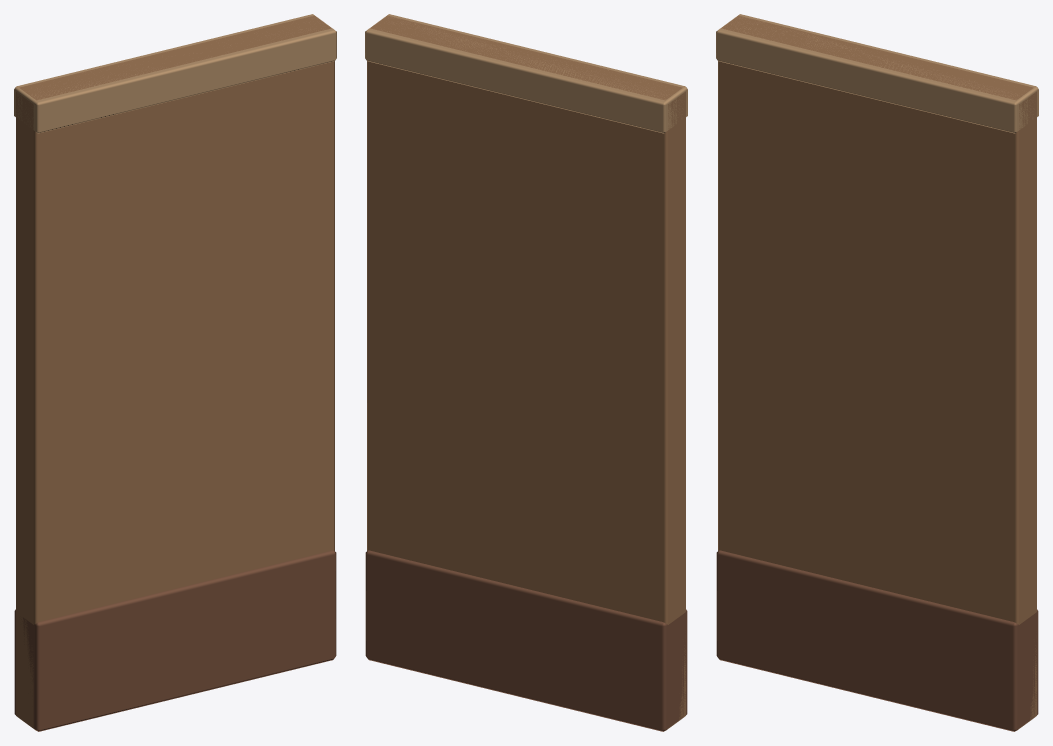
File: ghost-town-wall-adobe.118014c1.glb
The picture shows the model from 3 angles, left to right: view 1: azimuth 30°, elevation 25°; view 2: azimuth 150°, elevation 25°; view 3: azimuth 330°, elevation 25°; orthographic projection.
Visible parts, largest first — view 1: body; view 2: body; view 3: body.
Part boxes in pixels (bbox=[...]): body: bbox=[14, 14, 336, 731]; body: bbox=[365, 14, 687, 731]; body: bbox=[716, 14, 1038, 731].
Bounding box in the file's own units: 1 × 2 × 0.14.
